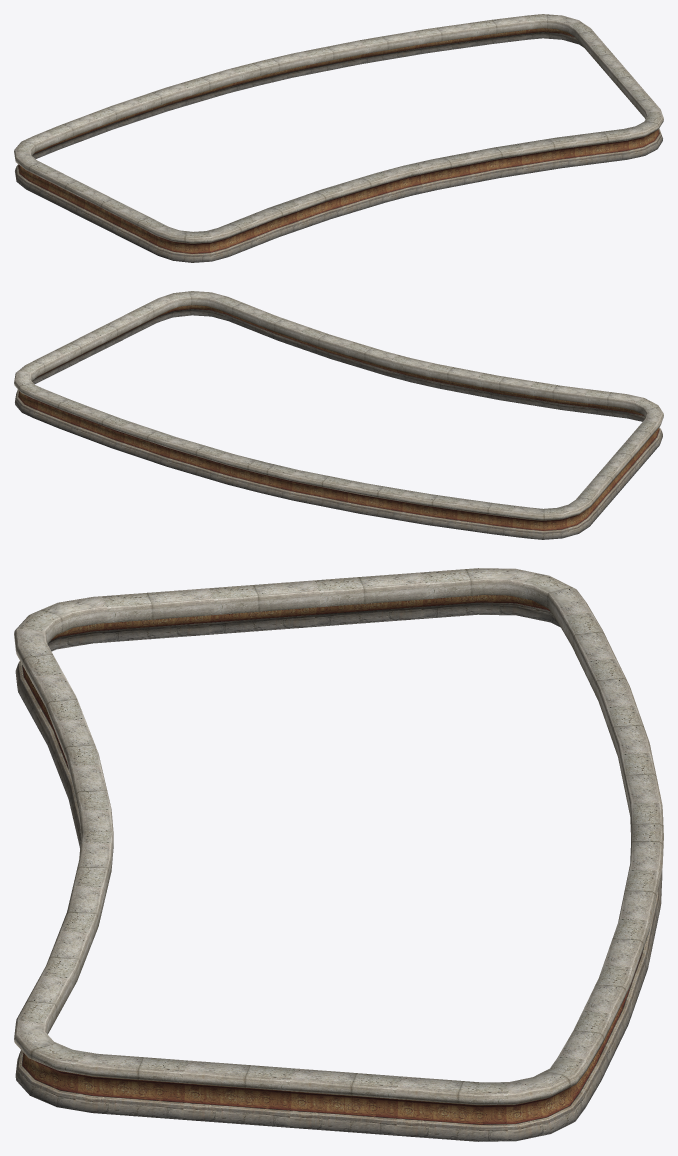
Rendered from Plant1Round.fbx.
3 renders of one model, top to bottom at view 1: azimuth 30°, elevation 25°; view 2: azimuth 150°, elevation 25°; view 3: azimuth 270°, elevation 25°, orthographic. The views are drawn at different scales.
Visible parts, largest first — view 1: LV_Campagna_City_FlowerBeds07_SM_KSR; view 2: LV_Campagna_City_FlowerBeds07_SM_KSR; view 3: LV_Campagna_City_FlowerBeds07_SM_KSR.
Part boxes in pixels (box(x1,y1,x2,y2)): LV_Campagna_City_FlowerBeds07_SM_KSR: box(14, 14, 663, 262); LV_Campagna_City_FlowerBeds07_SM_KSR: box(14, 291, 663, 539); LV_Campagna_City_FlowerBeds07_SM_KSR: box(14, 568, 663, 1141).
Bounding box in the file's own units: 2.88 × 0.12 × 1.49.
